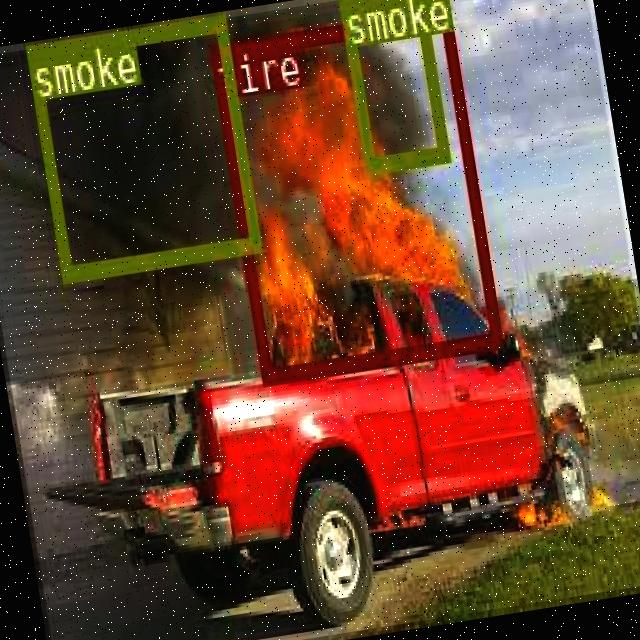fire: (208, 7, 502, 383)
smoke: (23, 13, 260, 281), (337, 0, 448, 173)
